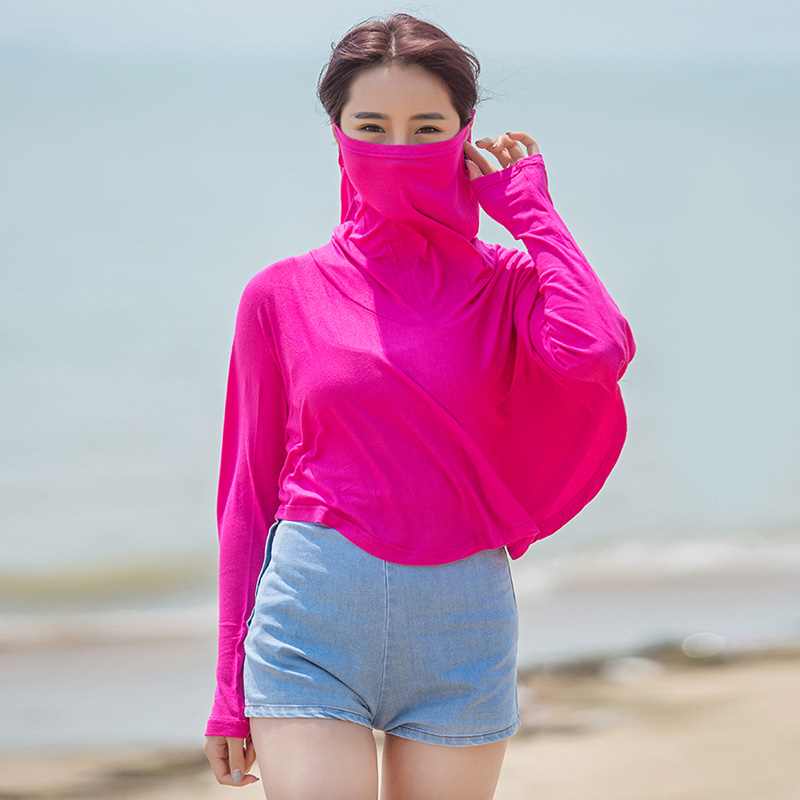face_mask: (340, 65, 461, 215)
